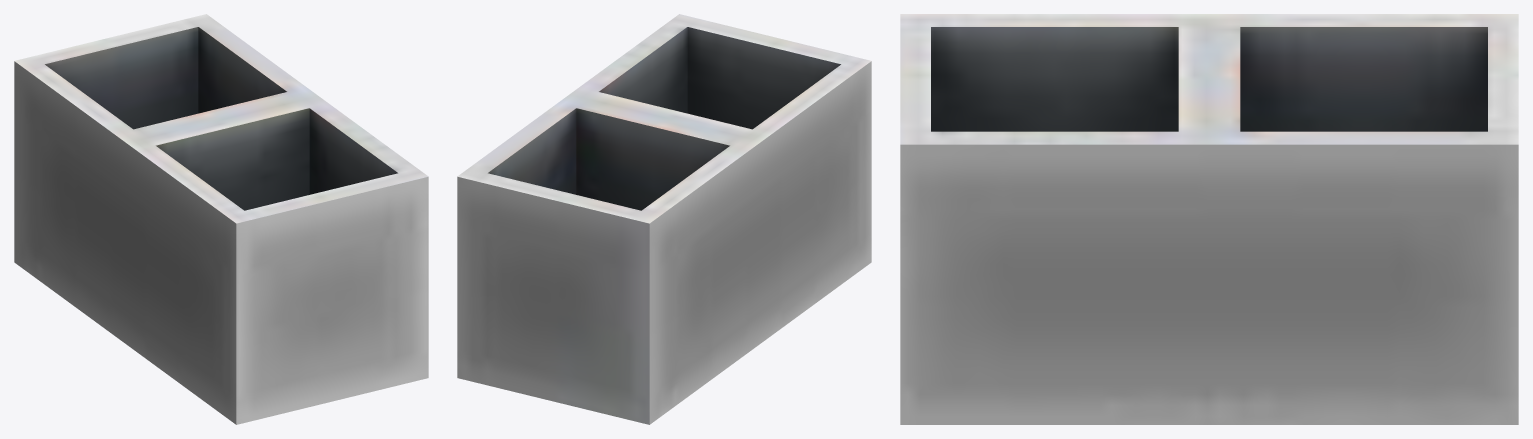
File: Brick2.fbx
The picture shows the model from 3 angles, left to right: view 1: azimuth 30°, elevation 25°; view 2: azimuth 150°, elevation 25°; view 3: azimuth 270°, elevation 25°; orthographic projection. The views are drawn at different scales.
Parts seen in each view (by area): view 1: Brick2; view 2: Brick2; view 3: Brick2.
Part boxes in pixels (x1,y1,x2,y2): Brick2: [14, 14, 428, 424]; Brick2: [457, 14, 871, 424]; Brick2: [900, 14, 1518, 424].
Size of the model in its own units: 0.3 by 0.3 by 0.6.
